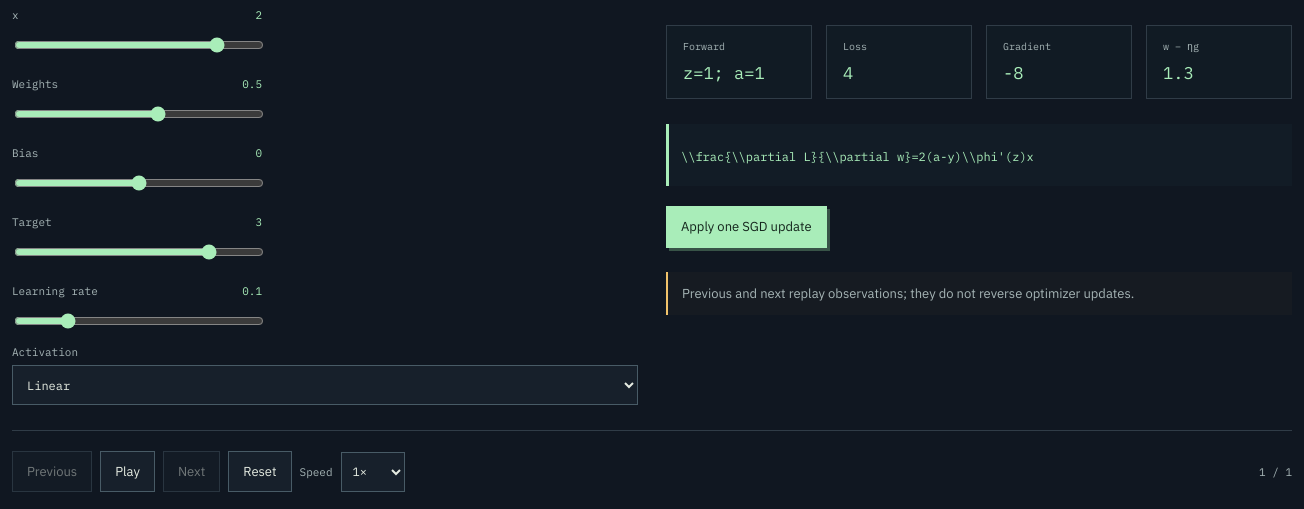
Test: a previous snapshot does not pretend to undo an update
Click the button "Apply one SGD update" at (746, 227), box [666,206,827,248]
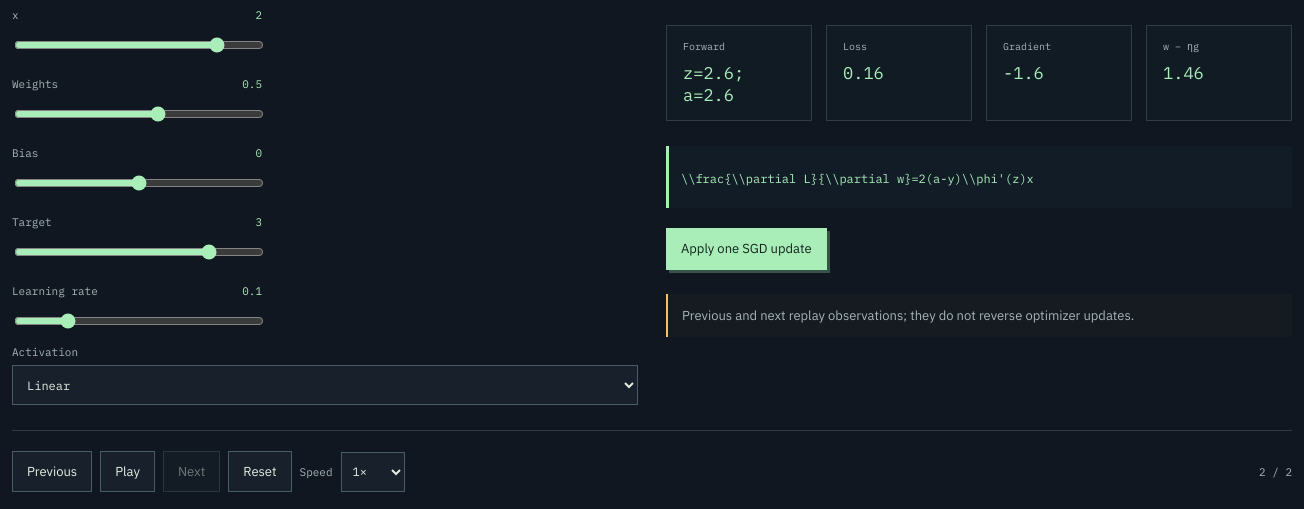
Check: the text "z=2.6; a=2.6" is shown, box [683,62,744,106]
Click the button "Previous" at (52, 472), box [12,451,92,492]
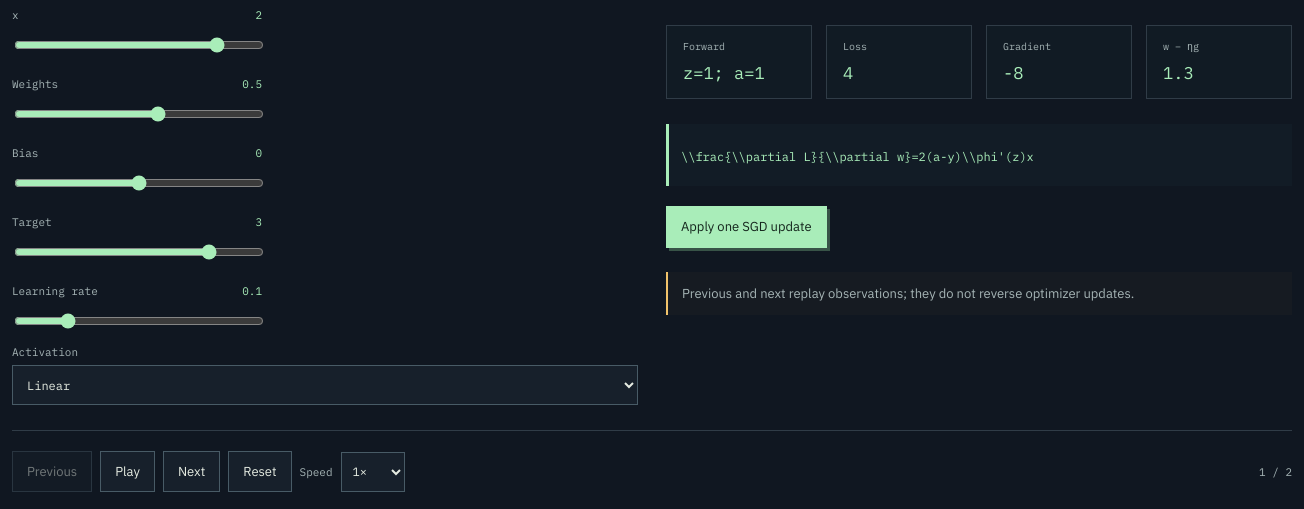
Check: the text "z=1; a=1" is shown, box [683,62,765,84]
Click the button "Next" at (192, 472), box [163,451,220,492]
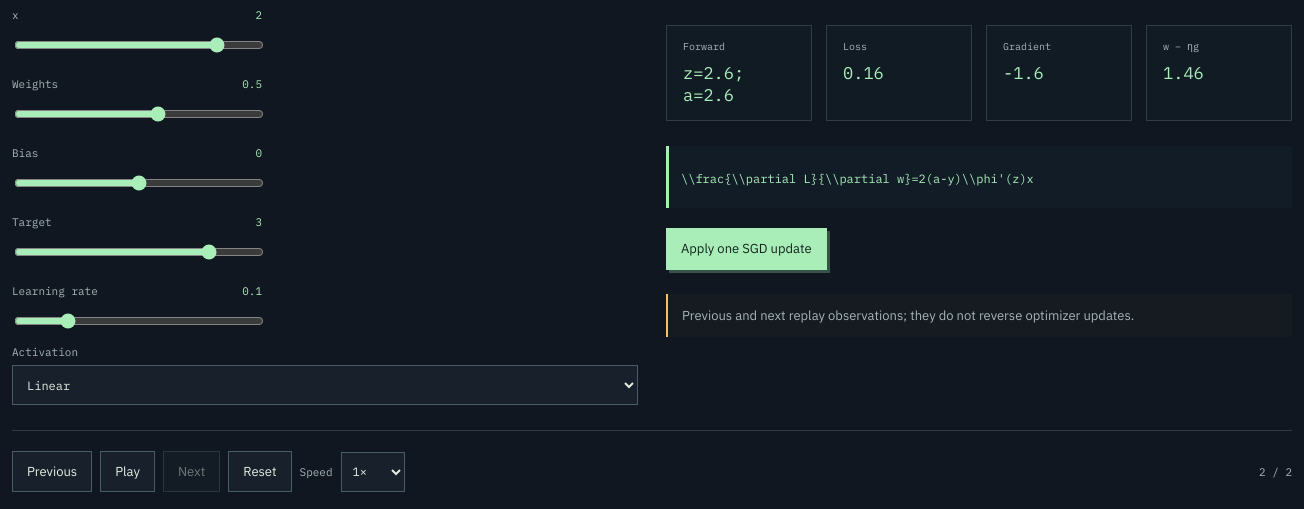
Check: the text "z=2.6; a=2.6" is shown, box [683,62,744,106]
